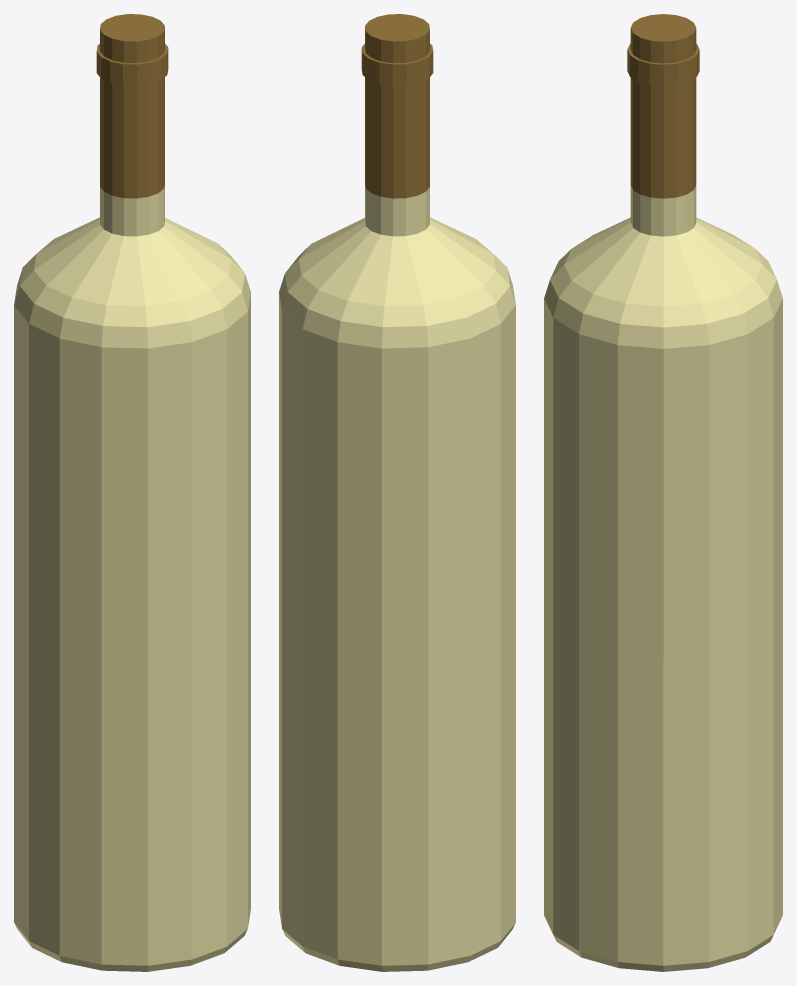
The model's file is Vino_Blanco.fbx.
The picture shows the model from 3 angles, left to right: view 1: azimuth 30°, elevation 25°; view 2: azimuth 150°, elevation 25°; view 3: azimuth 270°, elevation 25°; orthographic projection.
Parts seen in each view (by area): view 1: Vino_Blanco; view 2: Vino_Blanco; view 3: Vino_Blanco.
Boxes of the visible parts, left/top/right/bottom form: Vino_Blanco: left=14, top=14, right=250, bottom=971; Vino_Blanco: left=279, top=14, right=515, bottom=971; Vino_Blanco: left=544, top=14, right=782, bottom=971.
Bounding box in the file's own units: 10 × 41.5 × 10.
